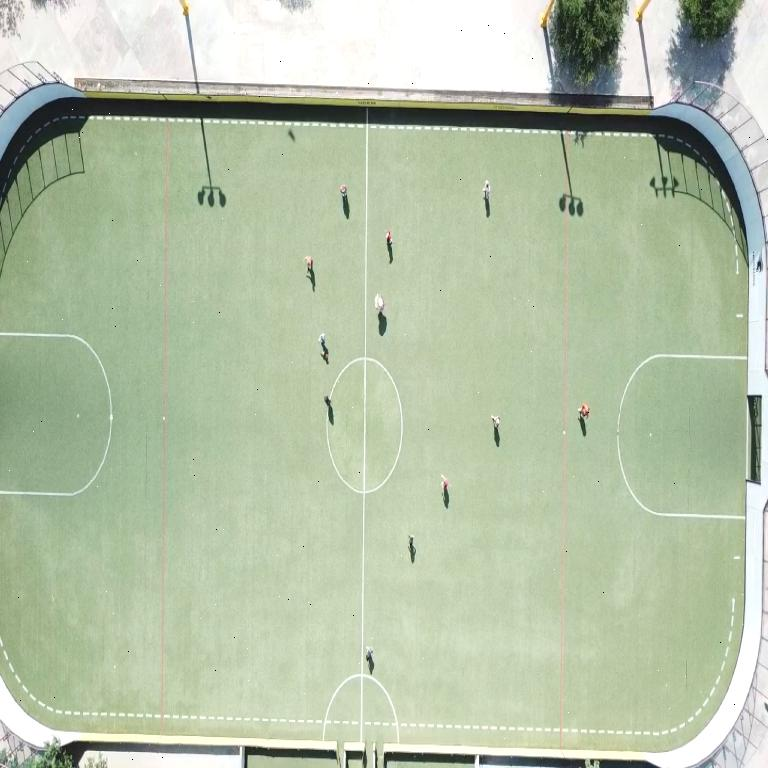AC: (617, 354, 746, 520), (0, 332, 112, 497)
B: (323, 352, 328, 361)
MC: (360, 108, 368, 741)
P: (374, 293, 386, 315), (365, 646, 374, 669), (578, 403, 589, 420), (305, 256, 313, 273), (483, 181, 490, 200), (491, 415, 500, 429), (441, 475, 448, 493), (324, 394, 332, 408), (408, 535, 414, 552), (318, 332, 325, 346), (386, 231, 392, 245), (340, 185, 345, 198)
